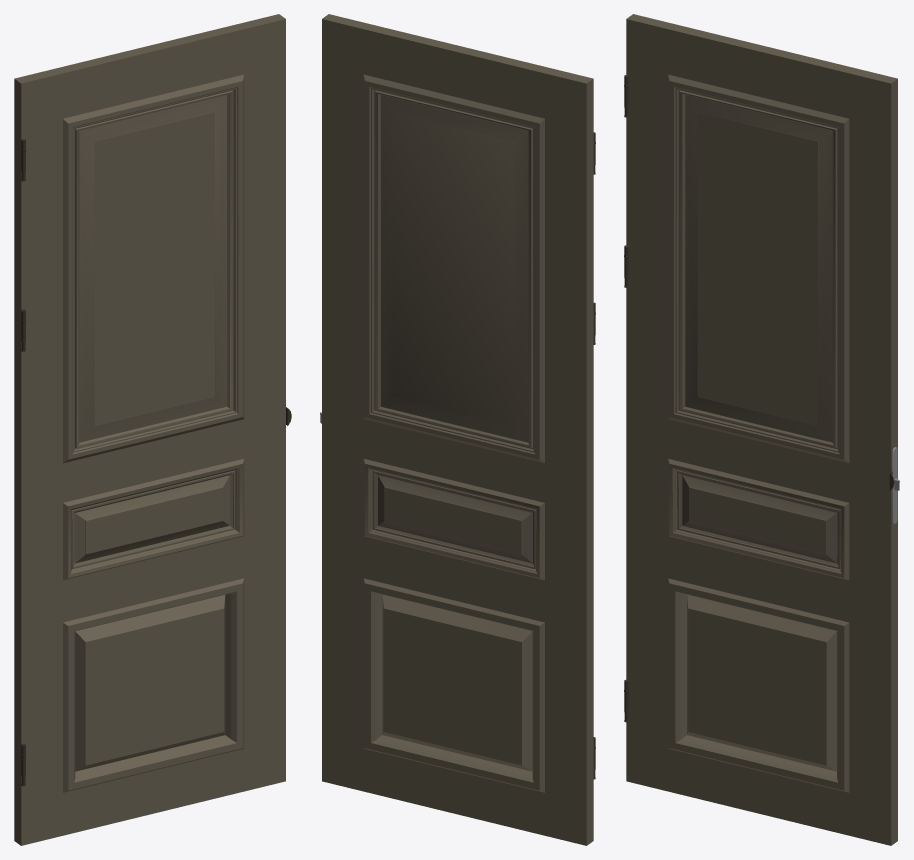
The model's file is 3_VERGINIA_Door.glb.
3 views of the same model, side by side, from view 1: azimuth 30°, elevation 25°; view 2: azimuth 150°, elevation 25°; view 3: azimuth 330°, elevation 25° (orthographic).
Parts seen in each view (by area): view 1: 3_VERGINIA_Door; view 2: 3_VERGINIA_Door; view 3: 3_VERGINIA_Door.
Part boxes in pixels (x1=…): 3_VERGINIA_Door: x1=14, y1=14, x2=291, y2=845; 3_VERGINIA_Door: x1=320, y1=14, x2=595, y2=845; 3_VERGINIA_Door: x1=624, y1=14, x2=899, y2=845.
Size of the model in its own units: 0.8197 by 2.2 by 0.0586.
